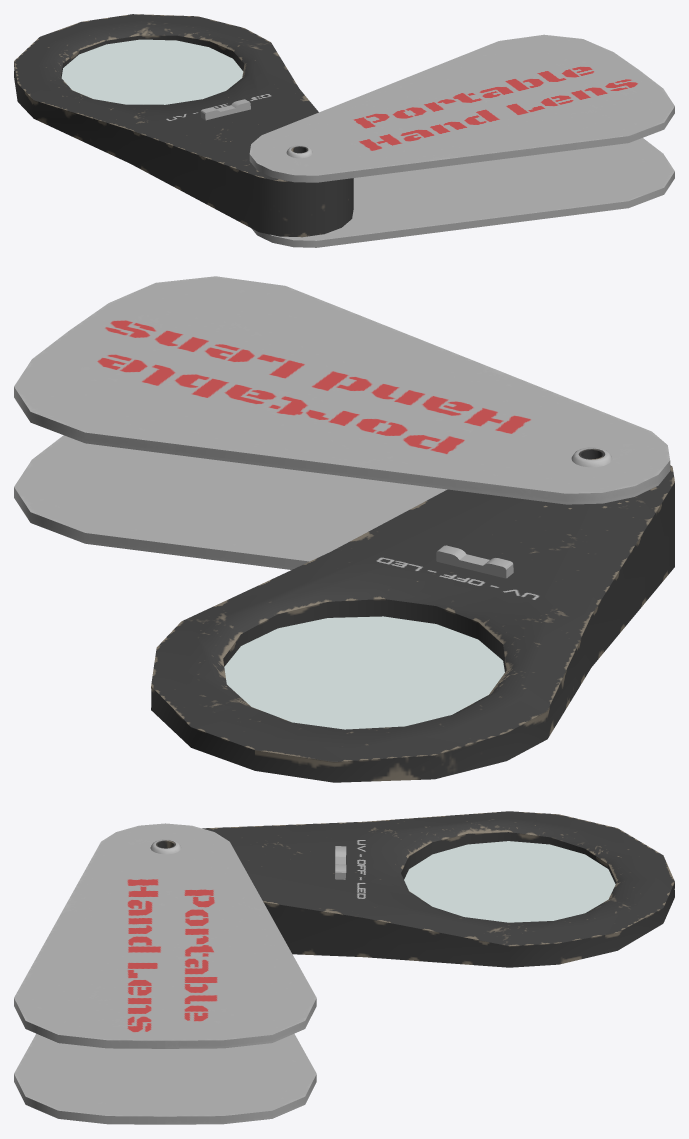
The model's file is HandLens.fbx.
3 renders of one model, top to bottom at view 1: azimuth 30°, elevation 25°; view 2: azimuth 150°, elevation 25°; view 3: azimuth 270°, elevation 25°, orthographic. The views are drawn at different scales.
Visible parts, largest first — view 1: Cylinder.001, Cylinder.003, Cylinder.002, Circle, Cube; view 2: Cylinder.001, Cylinder.003, Cylinder.002, Circle, Cube; view 3: Cylinder.001, Cylinder.003, Cylinder.002, Circle.
Boxes of the visible parts, x1,y1,x2,y2 form: Cylinder.001: [249, 34, 674, 182]; Cylinder.003: [14, 14, 353, 237]; Cylinder.002: [252, 138, 674, 247]; Circle: [61, 39, 243, 104]; Cube: [200, 99, 250, 120]; Cylinder.001: [14, 276, 670, 504]; Cylinder.003: [151, 449, 674, 782]; Cylinder.002: [14, 435, 447, 569]; Circle: [224, 616, 504, 729]; Cube: [436, 545, 513, 578]; Cylinder.001: [14, 823, 316, 1048]; Cylinder.003: [156, 811, 674, 967]; Cylinder.002: [14, 1033, 316, 1124]; Circle: [404, 841, 615, 922].
Bounding box in the file's own units: 107 × 17.37 × 114.
Materials: 4 (4 with a texture image).
